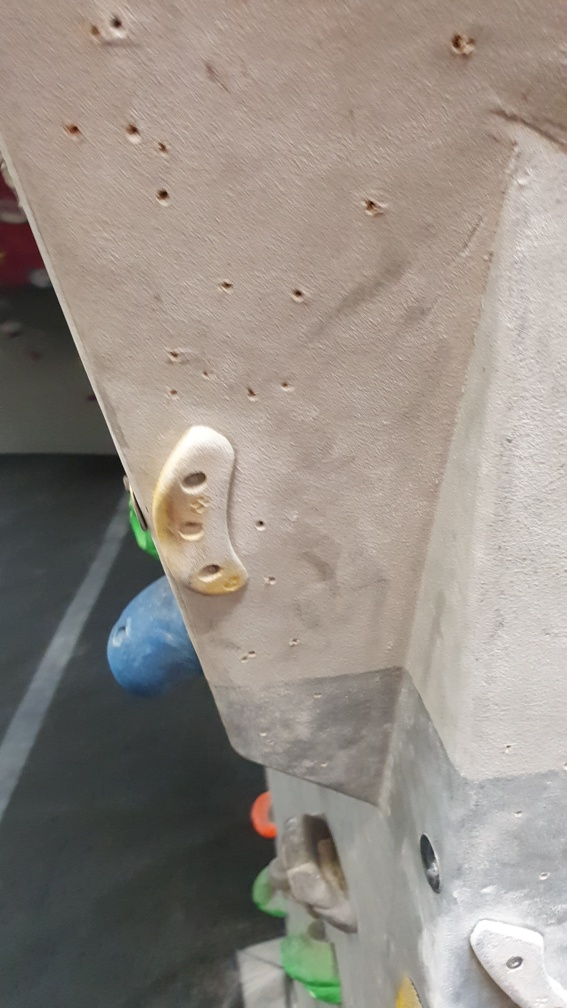Crimp: (465, 919, 564, 1005)
Hand Start: (419, 835, 443, 892)
Jug: (281, 813, 367, 937)
